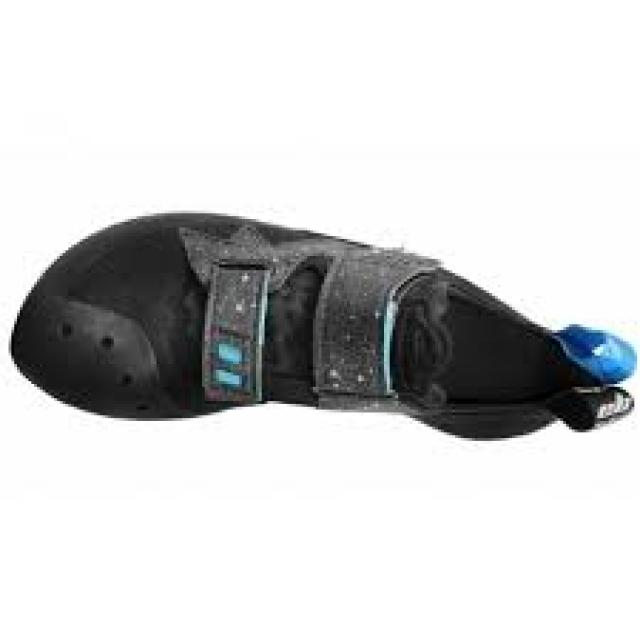climbing-shoes: (10, 209, 636, 442)
